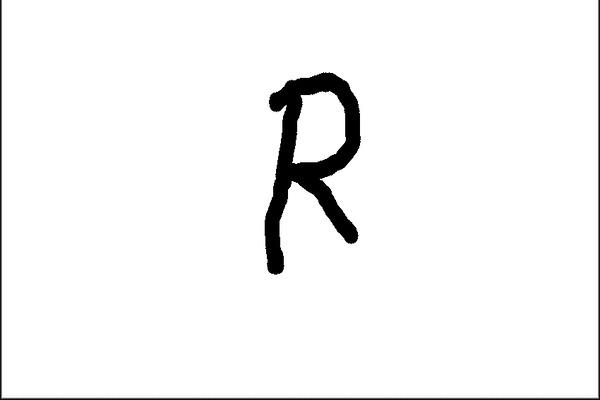R: (257, 58, 375, 275)
